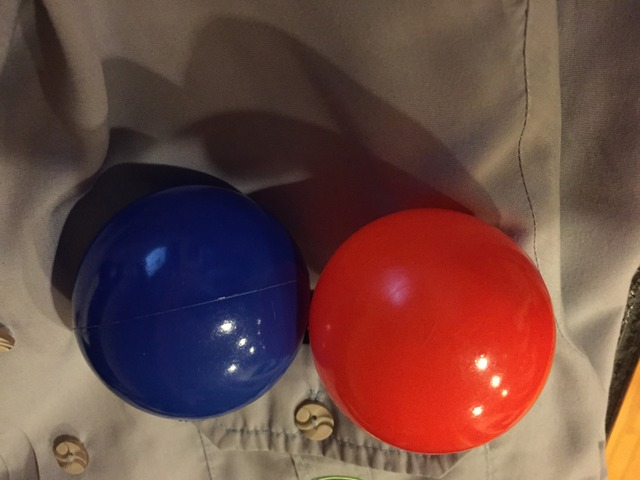Ball: (306, 205, 552, 452)
